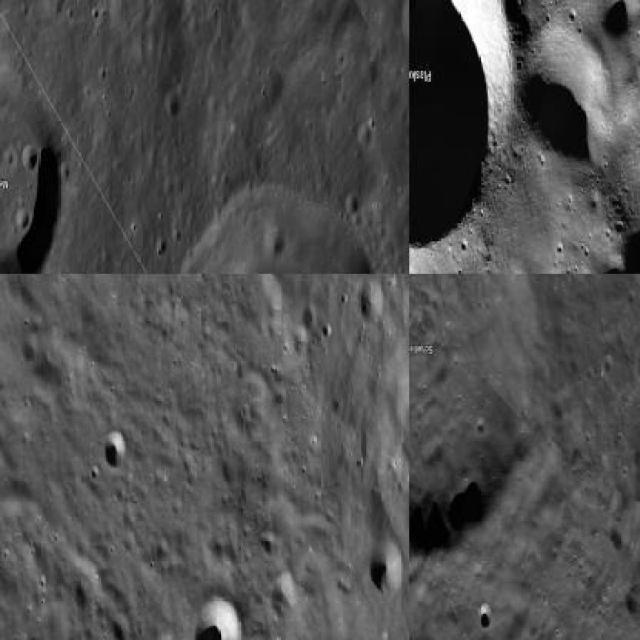crater: (409, 274, 540, 563), (409, 0, 514, 249), (172, 177, 396, 272), (0, 54, 63, 272), (515, 26, 608, 168), (192, 594, 242, 638), (368, 541, 402, 594), (103, 431, 125, 466), (475, 603, 491, 628)
